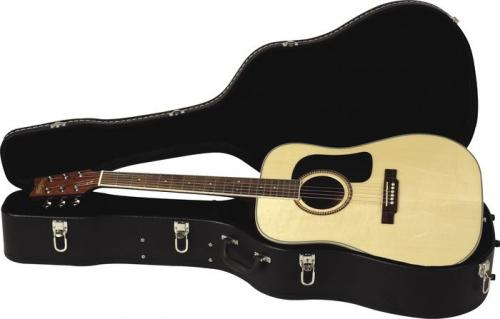guitar: (29, 132, 486, 266)
